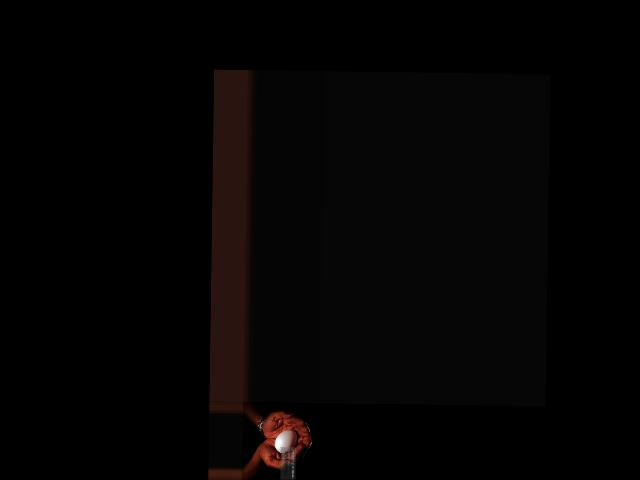egg: (274, 429, 298, 453)
